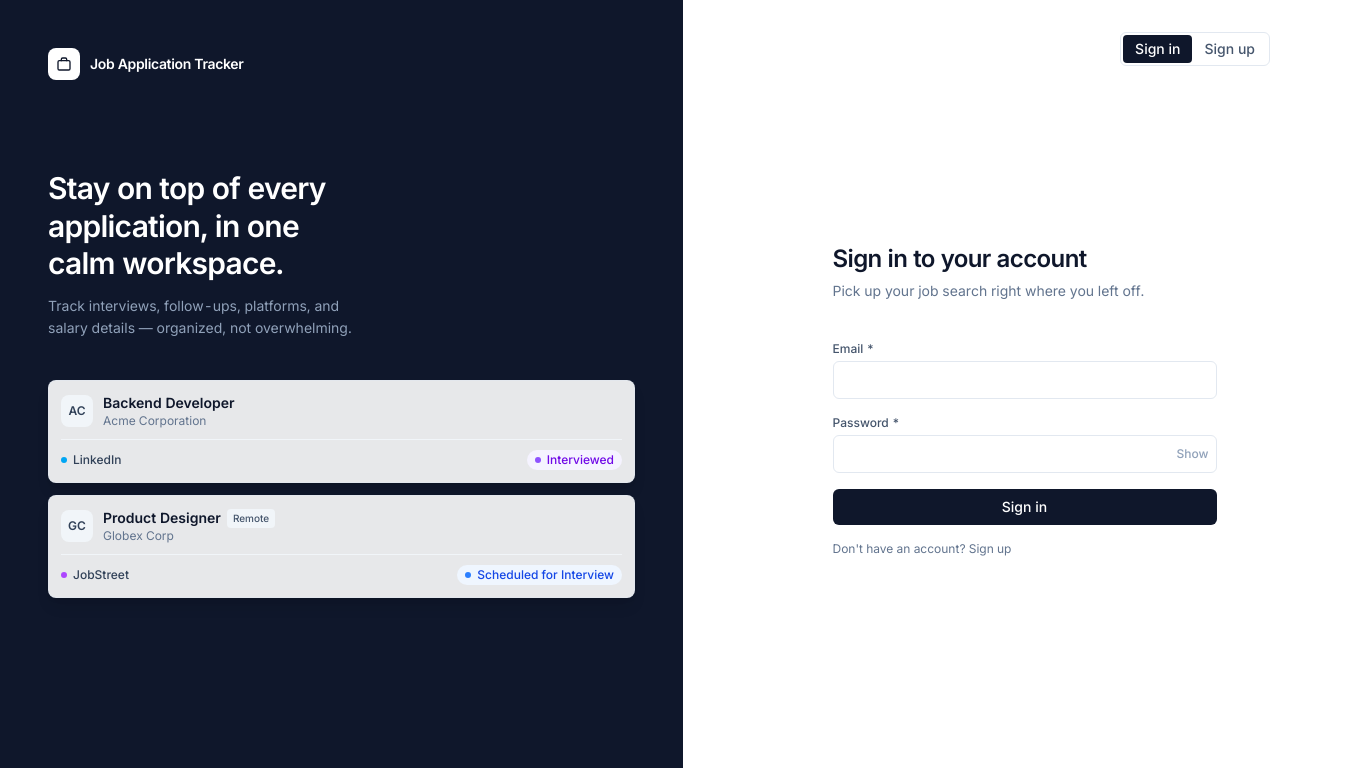
Scenario: LoginPage › shows validation errors and does not submit when fields are invalid
Type "not-an-email" into the field labelled "Email *" at (1024, 380), box [832,361,1216,399]
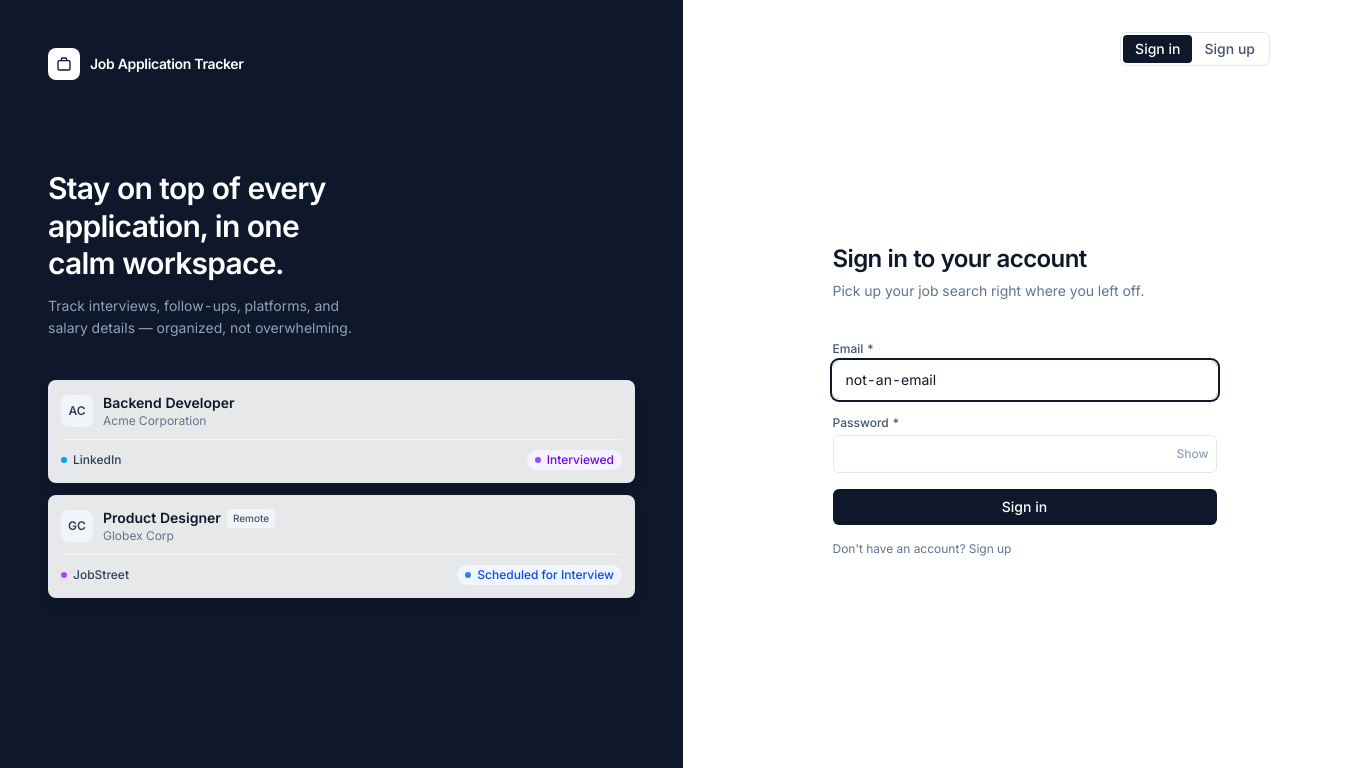
Type "short" into the password field labelled "Password *" at (1024, 454), box [832,435,1216,473]
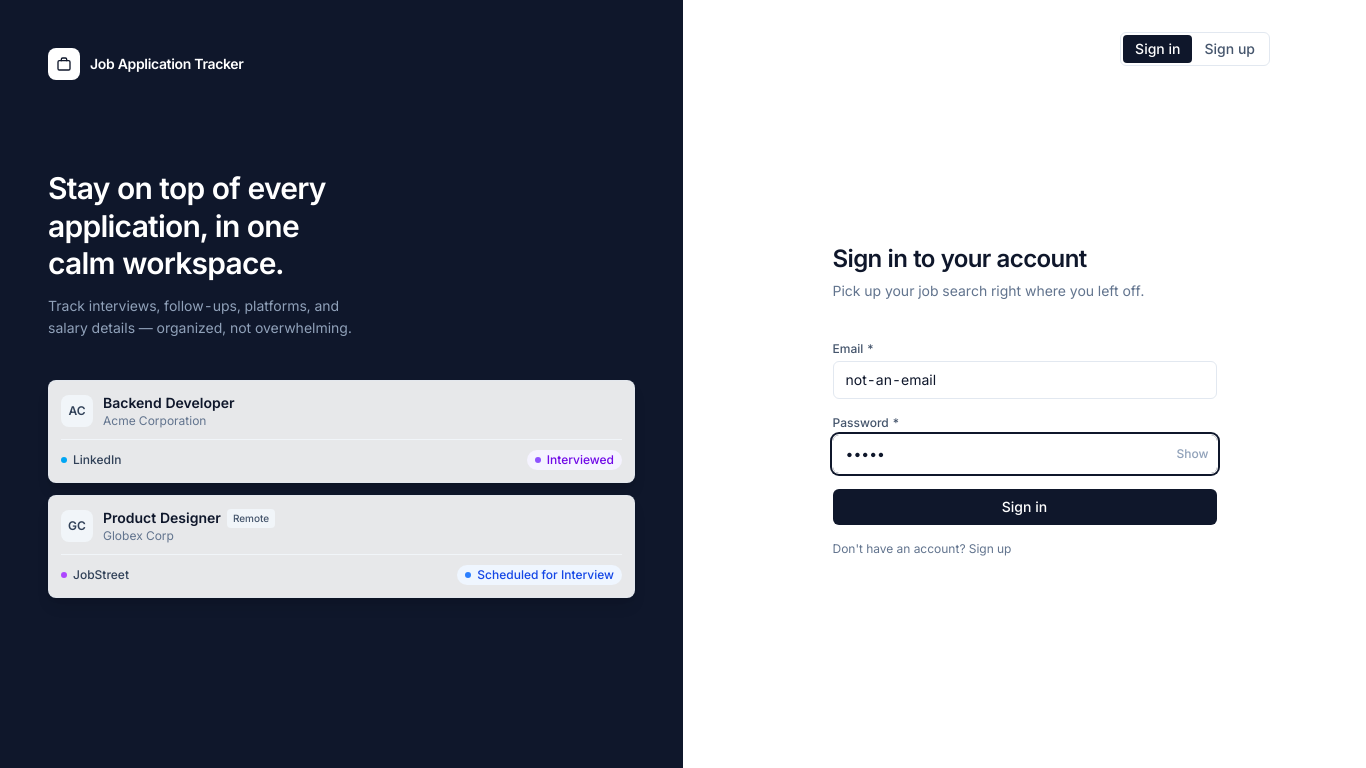
Click the button "Sign in" below "Password" at (1024, 507), box [832,489,1216,525]
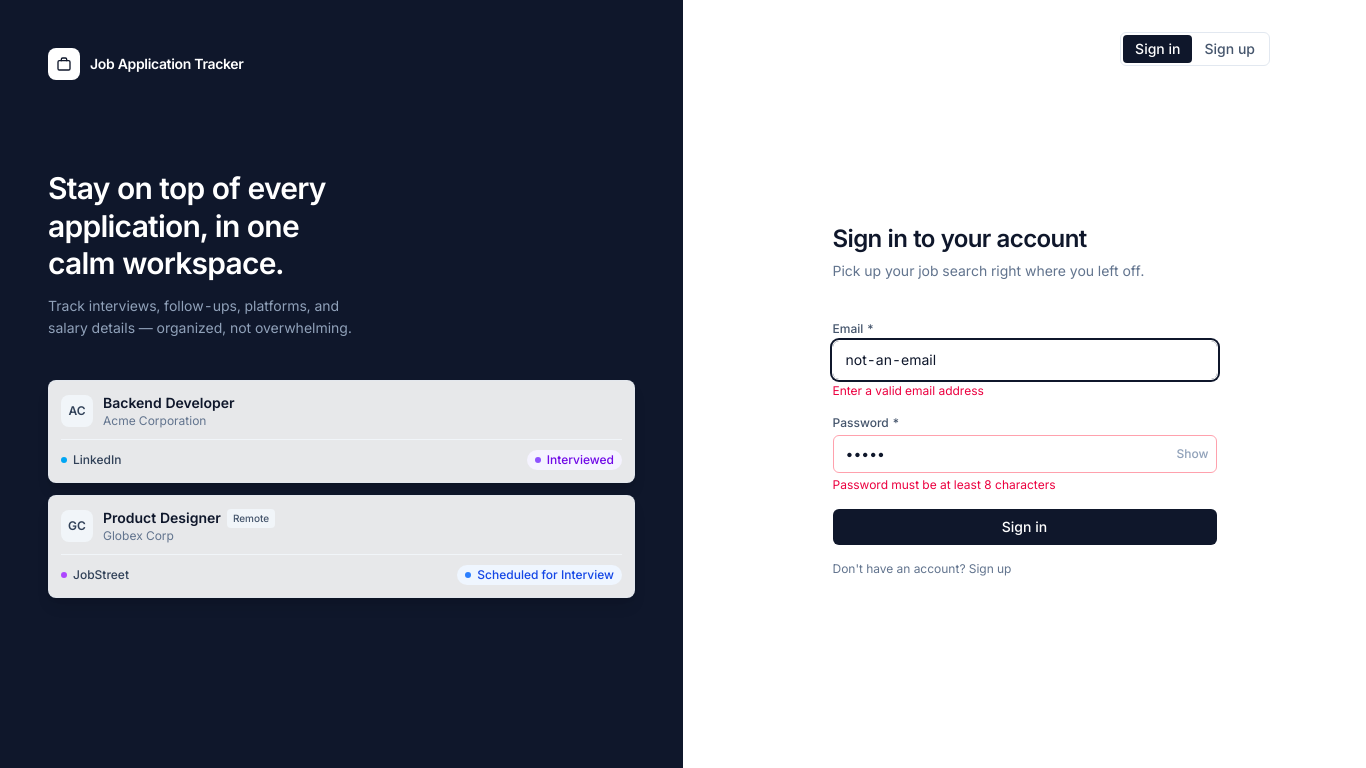
Expected: the text "Enter a valid email address" is shown, [832,383,984,398]
Expected: the text "Password must be at least 8 characters" is shown, [832,477,1056,492]
